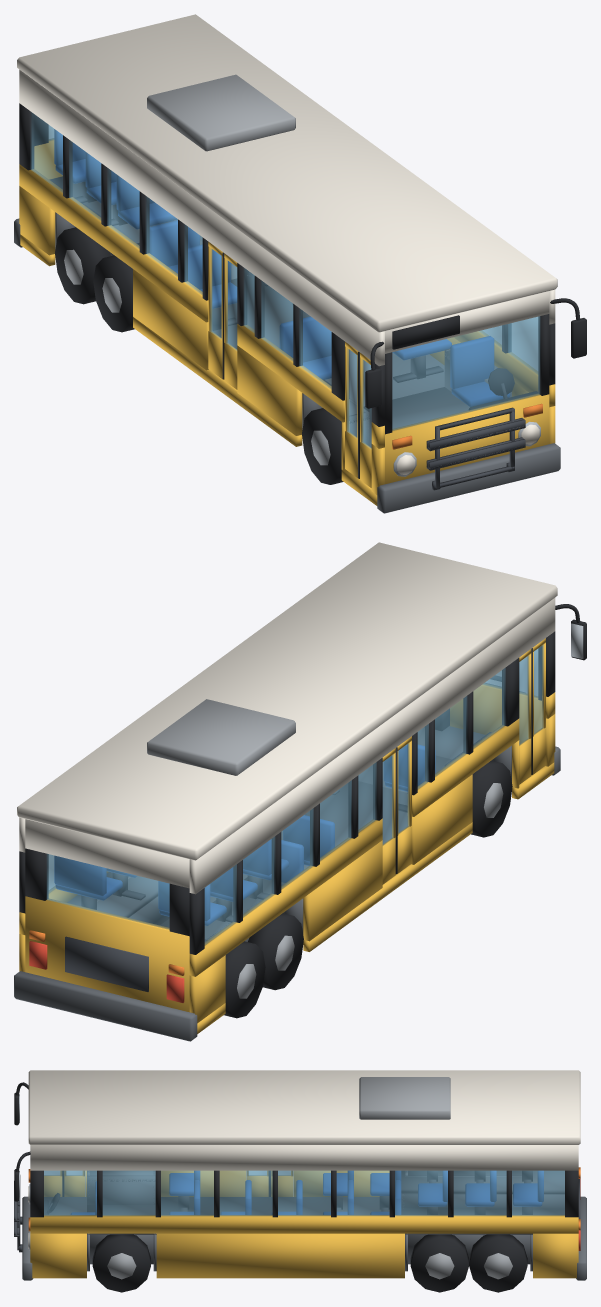
File: bus.glb
3 renders of one model, top to bottom at view 1: azimuth 30°, elevation 25°; view 2: azimuth 150°, elevation 25°; view 3: azimuth 270°, elevation 25°, orthographic. The views are drawn at different scales.
Parts seen in each view (by area): view 1: Roof, Body_Paint, Windows_Glass, Body_Upper, Body_WindowBand, Body_Floor, Roof_AC, Bumpers, BikeRack, Wheel_6, Door_Middle, Wheel_2 (+12 smaller); view 2: Roof, Body_Paint, Windows_Glass, Body_Upper, Body_WindowBand, Body_Floor, Roof_AC, Bumpers, Rear_Grille, Wheel_4, Door_Middle, Wheel_6 (+10 smaller); view 3: Roof, Body_Paint, Windows_Glass, Body_Upper, Body_Floor, Roof_AC, Body_WindowBand, Wheel_5, Wheel_1, Wheel_3, Bumpers, Door_Front (+11 smaller).
Boxes of the visible parts, bbox=[...] form: Roof: bbox=[17, 14, 557, 332]; Body_Paint: bbox=[19, 138, 555, 505]; Windows_Glass: bbox=[31, 112, 539, 430]; Body_Upper: bbox=[19, 69, 555, 366]; Body_WindowBand: bbox=[19, 103, 555, 434]; Body_Floor: bbox=[50, 176, 511, 447]; Roof_AC: bbox=[147, 74, 295, 151]; Bumpers: bbox=[14, 218, 560, 513]; BikeRack: bbox=[426, 407, 525, 490]; Wheel_6: bbox=[55, 227, 110, 304]; Door_Middle: bbox=[208, 241, 237, 389]; Wheel_2: bbox=[302, 408, 343, 484]; Roof: bbox=[17, 542, 557, 860]; Body_Paint: bbox=[19, 684, 555, 1033]; Windows_Glass: bbox=[47, 649, 537, 945]; Body_Upper: bbox=[19, 598, 555, 894]; Body_WindowBand: bbox=[19, 631, 555, 954]; Body_Floor: bbox=[67, 726, 519, 941]; Roof_AC: bbox=[147, 699, 295, 775]; Bumpers: bbox=[14, 746, 560, 1041]; Rear_Grille: bbox=[65, 936, 148, 991]; Wheel_4: bbox=[248, 913, 303, 990]; Door_Middle: bbox=[382, 736, 411, 884]; Wheel_6: bbox=[224, 941, 265, 1018]; Roof: bbox=[28, 1070, 580, 1144]; Body_Paint: bbox=[30, 1171, 578, 1278]; Windows_Glass: bbox=[44, 1170, 564, 1215]; Body_Upper: bbox=[30, 1145, 578, 1170]; Body_Floor: bbox=[44, 1171, 564, 1271]; Roof_AC: bbox=[359, 1077, 450, 1119]; Body_WindowBand: bbox=[30, 1170, 578, 1217]; Wheel_5: bbox=[469, 1234, 527, 1292]; Wheel_1: bbox=[92, 1234, 150, 1292]; Wheel_3: bbox=[410, 1234, 468, 1292]; Bumpers: bbox=[22, 1196, 586, 1280]; Door_Front: bbox=[44, 1171, 84, 1196].
Bounding box in the file's own units: 10.6 × 10.1 × 31.35.
